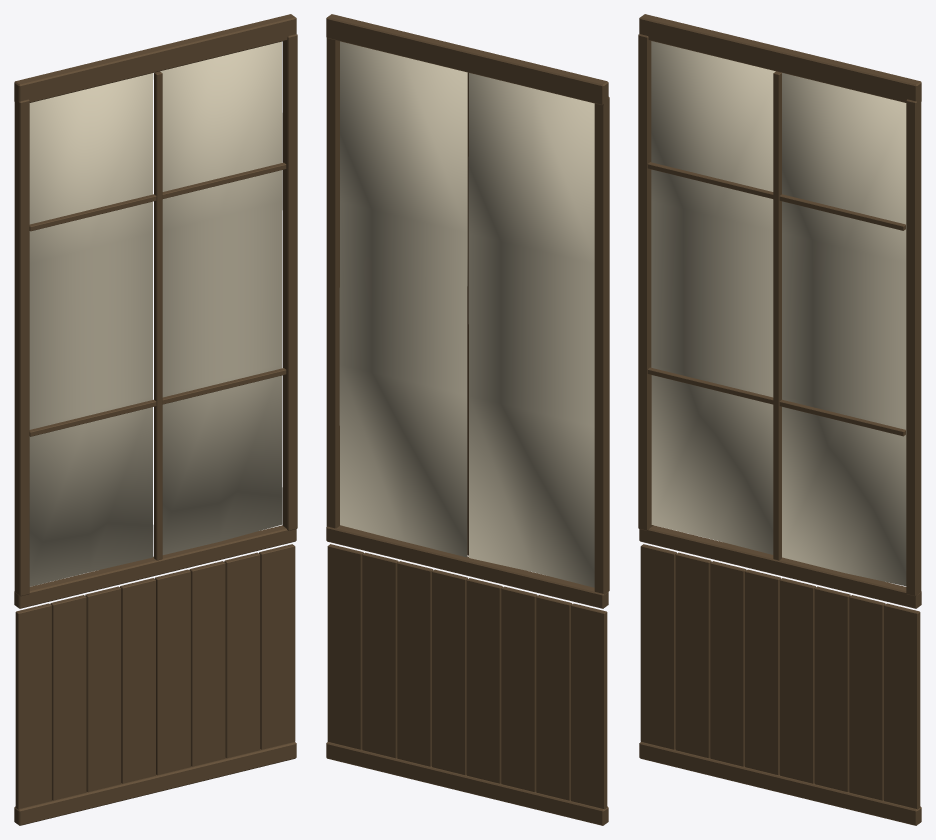
The model's file is wall-1-lod1.fbx.
The picture shows the model from 3 angles, left to right: view 1: azimuth 30°, elevation 25°; view 2: azimuth 150°, elevation 25°; view 3: azimuth 330°, elevation 25°; orthographic projection.
Visible parts, largest first — view 1: Slack fibre infill, Slack fibre infill.001, Profiled upright, Profiled upright.001, Tongue-and-groove lower board, Profiled horizontal rail.002, Tongue-and-groove lower board.002, Tongue-and-groove lower board.006, Tongue-and-groove lower board.007, Tongue-and-groove lower board.004, Tongue-and-groove lower board.005, Tongue-and-groove lower board.001 (+8 smaller); view 2: Slack fibre infill.001, Slack fibre infill, Profiled upright, Tongue-and-groove lower board, Profiled horizontal rail.002, Tongue-and-groove lower board.003, Tongue-and-groove lower board.006, Tongue-and-groove lower board.007, Tongue-and-groove lower board.002, Tongue-and-groove lower board.005, Tongue-and-groove lower board.004, Tongue-and-groove lower board.001 (+4 smaller); view 3: Slack fibre infill.001, Slack fibre infill, Profiled upright.001, Tongue-and-groove lower board.007, Profiled horizontal rail.002, Tongue-and-groove lower board.001, Tongue-and-groove lower board.005, Tongue-and-groove lower board, Tongue-and-groove lower board.002, Tongue-and-groove lower board.003, Tongue-and-groove lower board.006, Tongue-and-groove lower board.004 (+8 smaller).
Boxes of the visible parts, bbox=[...] form: Slack fibre infill: bbox=[29, 73, 153, 586]; Slack fibre infill.001: bbox=[160, 41, 282, 554]; Profiled upright: bbox=[14, 99, 29, 596]; Profiled upright.001: bbox=[282, 34, 297, 530]; Tongue-and-groove lower board: bbox=[15, 603, 51, 809]; Profiled horizontal rail.002: bbox=[14, 14, 296, 103]; Tongue-and-groove lower board.002: bbox=[85, 586, 121, 791]; Tongue-and-groove lower board.006: bbox=[224, 552, 260, 758]; Tongue-and-groove lower board.007: bbox=[259, 544, 295, 749]; Tongue-and-groove lower board.004: bbox=[154, 569, 190, 775]; Tongue-and-groove lower board.005: bbox=[189, 561, 225, 766]; Tongue-and-groove lower board.001: bbox=[50, 595, 86, 800]; Slack fibre infill.001: bbox=[339, 41, 467, 557]; Slack fibre infill: bbox=[468, 73, 594, 587]; Profiled upright: bbox=[594, 97, 609, 594]; Tongue-and-groove lower board: bbox=[571, 603, 607, 809]; Profiled horizontal rail.002: bbox=[326, 14, 608, 105]; Tongue-and-groove lower board.003: bbox=[466, 578, 502, 783]; Tongue-and-groove lower board.006: bbox=[362, 552, 398, 758]; Tongue-and-groove lower board.007: bbox=[327, 544, 363, 749]; Tongue-and-groove lower board.002: bbox=[501, 586, 537, 791]; Tongue-and-groove lower board.005: bbox=[397, 561, 433, 766]; Tongue-and-groove lower board.004: bbox=[432, 569, 467, 775]; Tongue-and-groove lower board.001: bbox=[536, 595, 572, 800]; Slack fibre infill.001: bbox=[782, 73, 906, 586]; Slack fibre infill: bbox=[651, 41, 775, 554]; Profiled upright.001: bbox=[906, 99, 921, 596]; Tongue-and-groove lower board.007: bbox=[884, 603, 920, 809]; Profiled horizontal rail.002: bbox=[639, 14, 921, 104]; Tongue-and-groove lower board.001: bbox=[675, 552, 711, 758]; Tongue-and-groove lower board.005: bbox=[814, 586, 850, 791]; Tongue-and-groove lower board: bbox=[640, 544, 676, 749]; Tongue-and-groove lower board.002: bbox=[710, 561, 746, 766]; Tongue-and-groove lower board.003: bbox=[745, 569, 781, 775]; Tongue-and-groove lower board.006: bbox=[849, 595, 885, 800]; Tongue-and-groove lower board.004: bbox=[780, 578, 815, 783].
Bounding box in the file's own units: 100 × 255 × 4.55.
